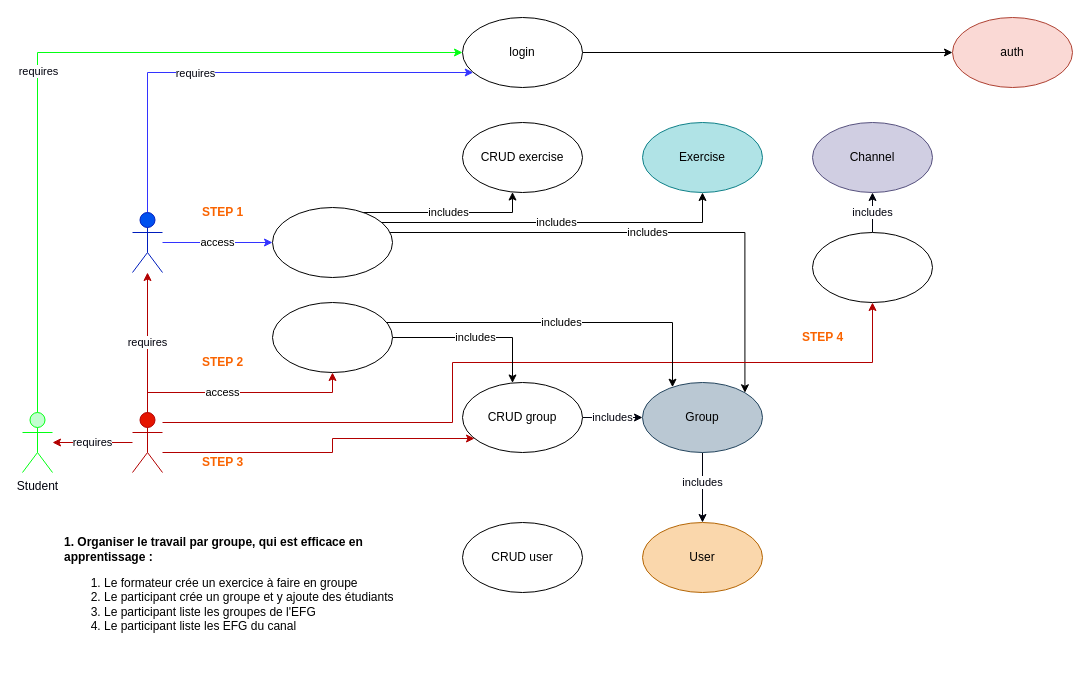
Some shapes in this 1090 by 680 pixel diagram are drawn without their labels. The box of each missing label's shape, as (x1, y1, x2, y2) in pixels:
create exercise: (272, 206, 392, 278)
create group: (272, 302, 392, 372)
CRUD channel: (812, 232, 932, 302)
Formateur: (132, 212, 162, 272)
Participant: (132, 412, 162, 472)
